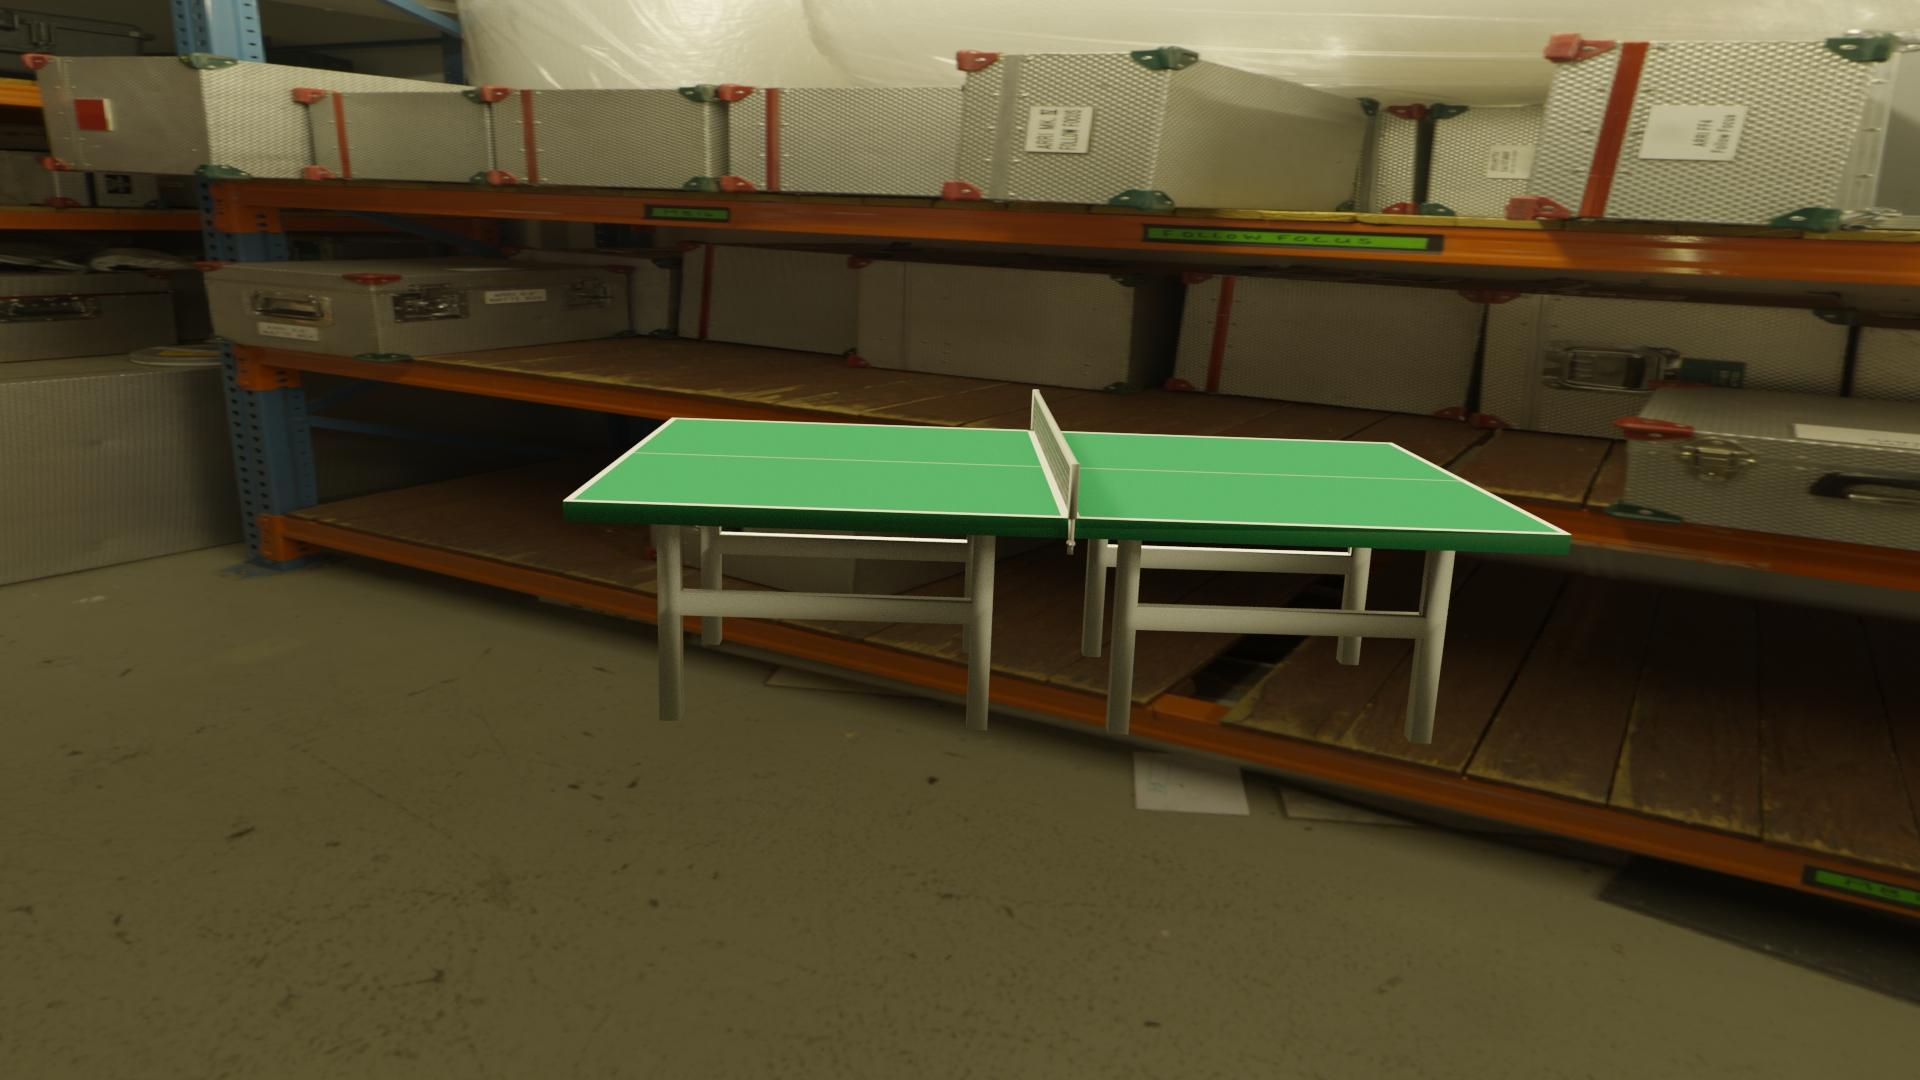table: (572, 419, 1561, 533)
